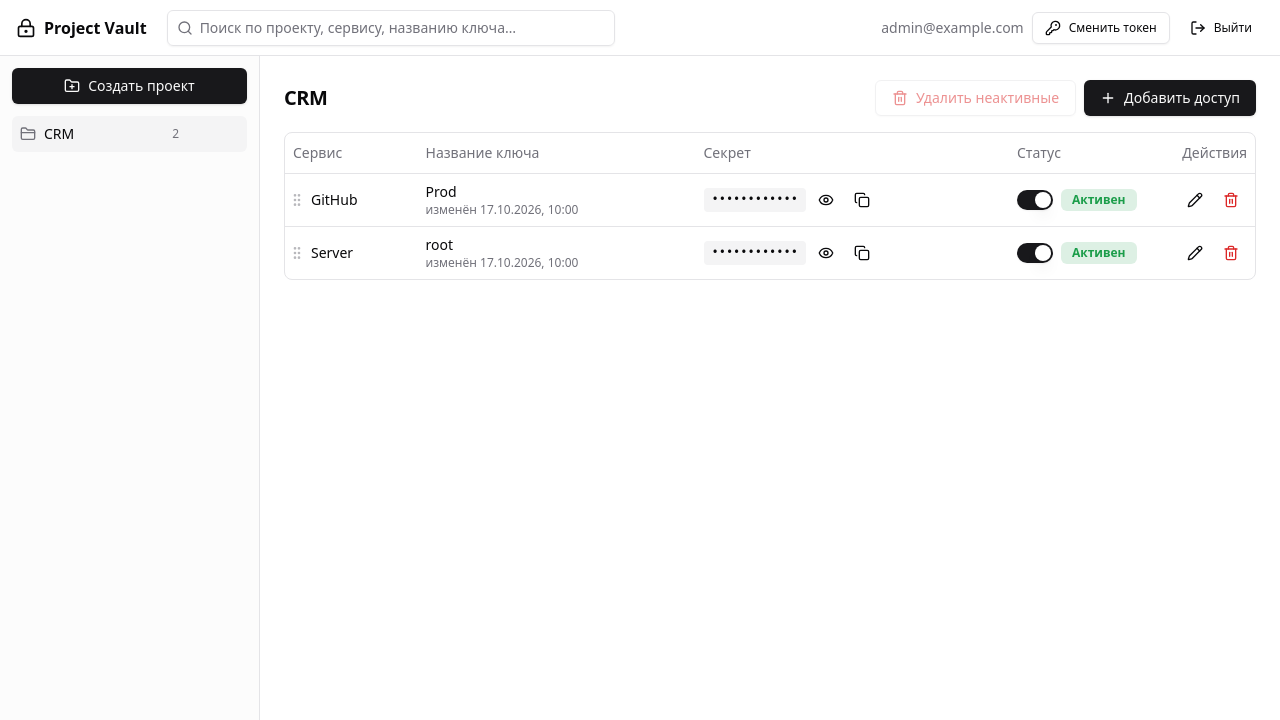
Test: dashboard › reveals and copies one specific secret on demand
expect the button "Создать проект" is shown: met, box [12,68,247,104]
Click the button named "Показать секрет" in the row of "GitHub": (826, 200) [810,184,842,216]
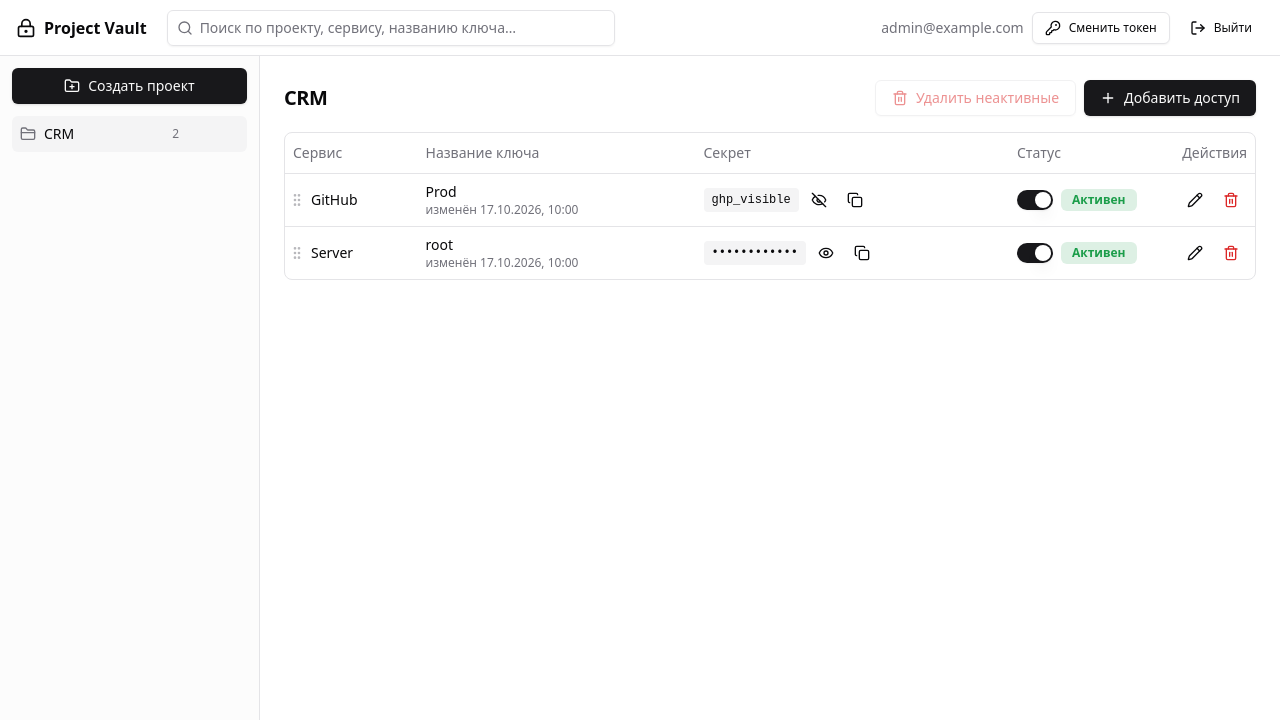
expect the text "ghp_visible" is shown: met, box [704,188,799,212]
Click the button named "Копировать секрет" next to "ghp_visible": (855, 200) [839,184,871,216]
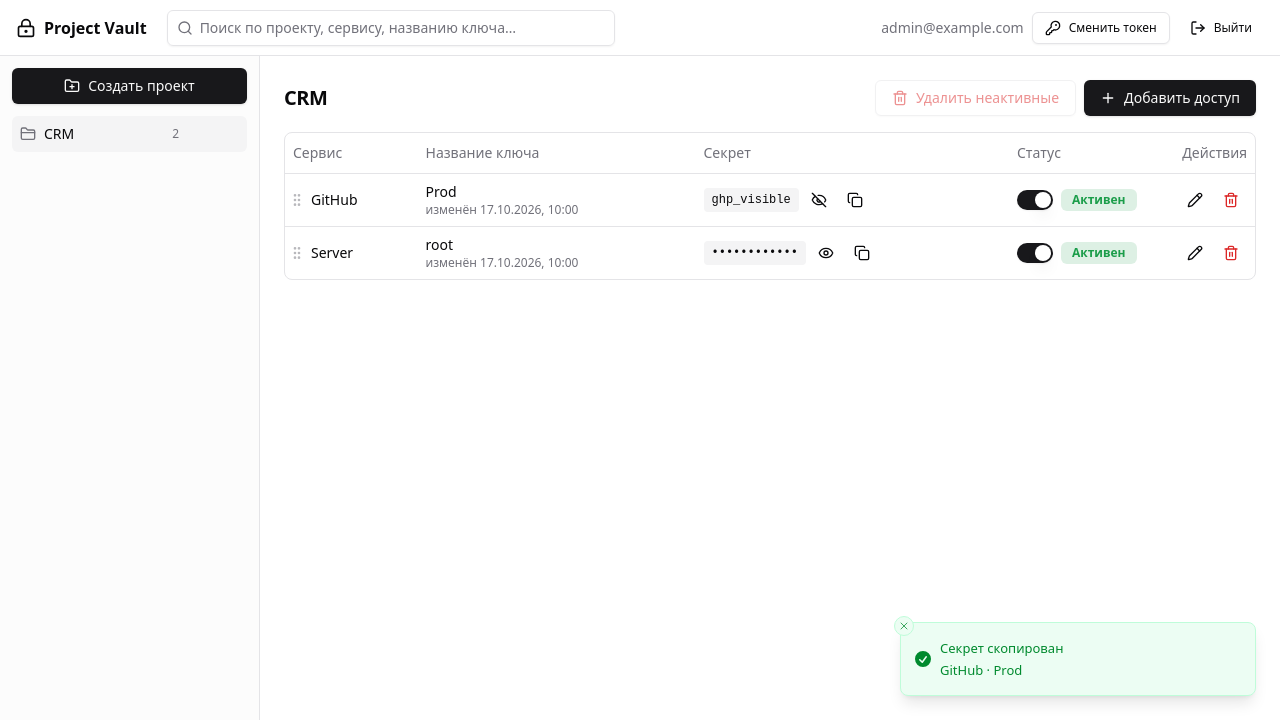
Click the button named "Скрыть секрет": (819, 200) [803,184,835,216]
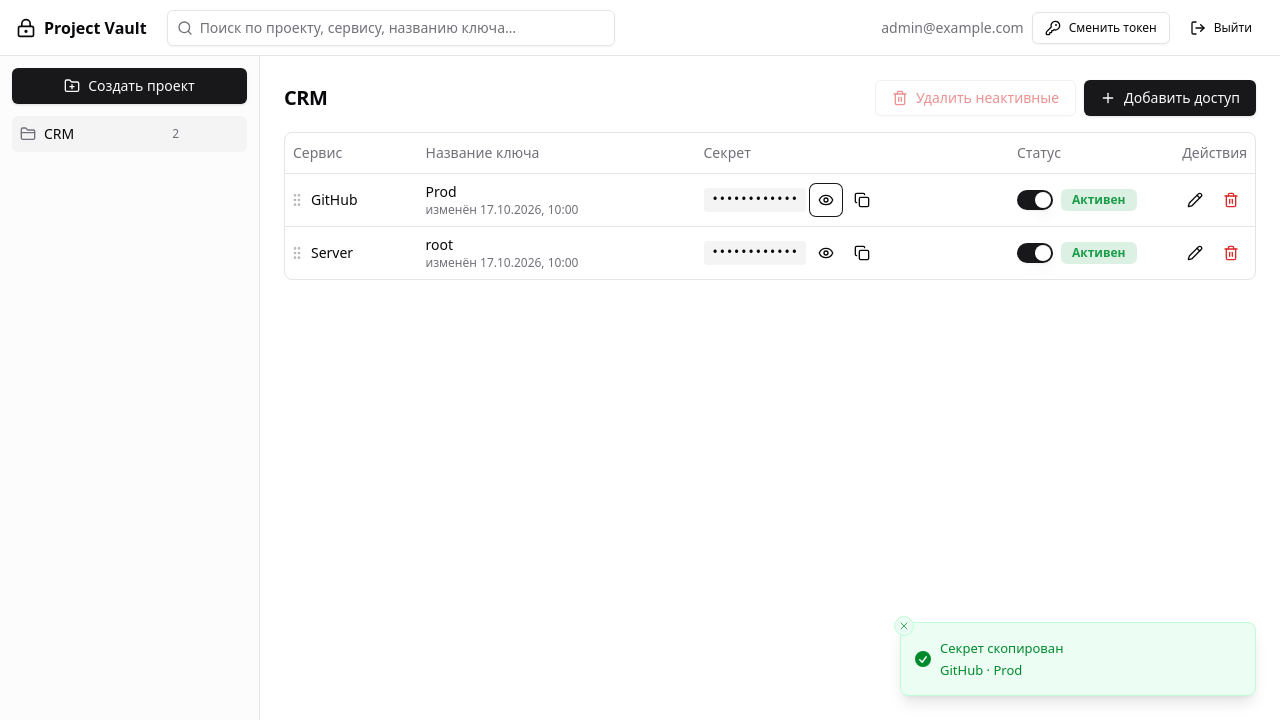
expect the 1st text with test id "secret-value" shows "••••": met, box [712,192,798,206]
